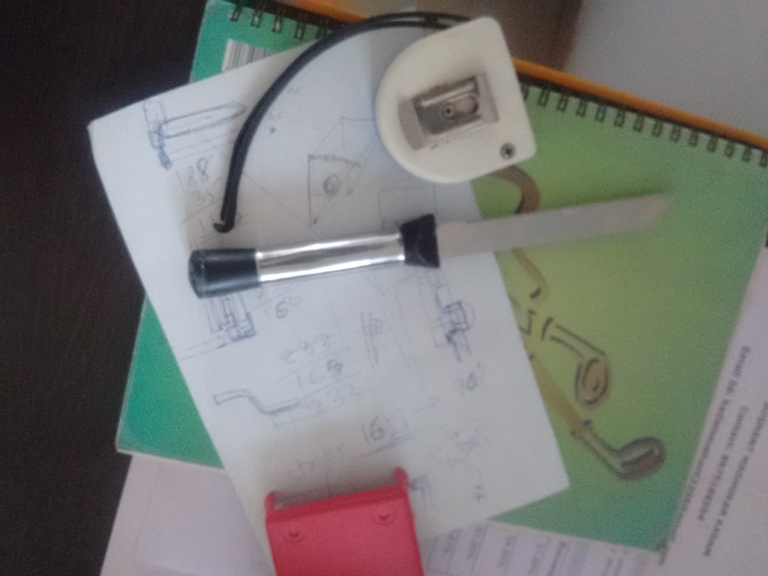knife: (181, 189, 671, 300)
